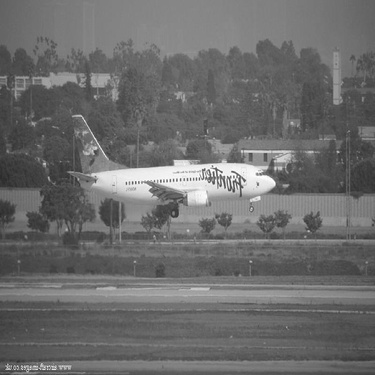airplane: (41, 113, 280, 234)
